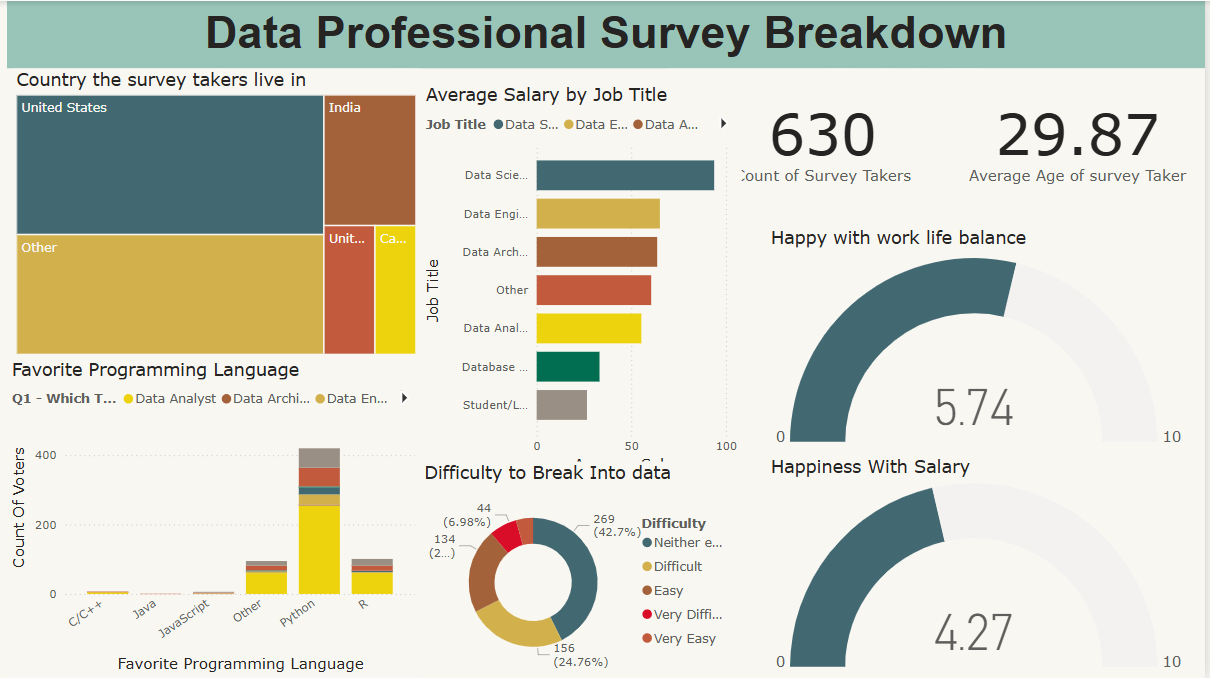

This screenshot's page, from the dashboard's own definition file:
{"tool":"powerbi","page":{"name":"Page 1","canvas":[1280,720],"ordinal":0},"visuals":[{"type":"textbox","box":[9.9,0,1270.8,71.5],"z":0},{"type":"card","fields":{"Values":["Count(Data Professional Survey.Unique ID)"]},"box":[708.8,71.5,329.6,150.9],"z":1000},{"type":"card","fields":{"Values":["Avg(Data Professional Survey.Q10 - Current Age)"]},"box":[1008.7,71.5,272,150.9],"z":2000},{"type":"barChart","title":"Average Salary by Job Title","fields":{"Category":["Data Professional Survey.Q1 - Which Title Best Fits your Current Role?.1"],"Y":["Avg(Data Professional Survey.Average Salary)"],"Series":["Data Professional Survey.Q1 - Which Title Best Fits your Current Role?.1"]},"box":[448.5,87.4,340,417.8],"z":3000},{"type":"columnChart","title":"Favorite Programming Language","fields":{"Category":["Data Professional Survey.Q5 - Favorite Programming Language.1"],"Y":["CountNonNull(Data Professional Survey.Unique ID)"],"Series":["Data Professional Survey.Q1 - Which Title Best Fits your Current Role?.1"]},"box":[10.1,378.7,437.5,338.2],"z":4000},{"type":"treemap","title":" Country the survey takers live in","fields":{"Group":["Data Professional Survey.Q11 - Which Country do you live in?.1"],"Values":["CountNonNull(Data Professional Survey.Q11 - Which Country do you live in?.1)"]},"box":[14.2,70.9,433.4,307.8],"z":5000},{"type":"gauge","title":"Happiness With Salary","fields":{"Y":["Avg(Data Professional Survey.Q6 - How Happy are you in your Current Position with the following? (Salary))"],"MinValue":["Min(Data Professional Survey.Q6 - How Happy are you in your Current Position with the following? (Salary))"],"MaxValue":["Max(Data Professional Survey.Q6 - How Happy are you in your Current Position with the following? (Salary))1"]},"box":[814.5,482.5,450.1,234.8],"z":6000},{"type":"gauge","title":"Happy with work life balance","fields":{"Y":["Avg(Data Professional Survey.Q6 - How Happy are you in your Current Position with the following? (Work/Life Balance))"],"MinValue":["Min(Data Professional Survey.Q6 - How Happy are you in your Current Position with the following? (Work/Life Balance))"],"MaxValue":["Max(Data Professional Survey.Q6 - How Happy are you in your Current Position with the following? (Work/Life Balance))"]},"box":[814.5,238,450.1,244.5],"z":7000},{"type":"donutChart","title":"Difficulty to Break Into data","fields":{"Category":["Data Professional Survey.Q7 - How difficult was it for you to break into Data?"],"Y":["CountNonNull(Data Professional Survey.Q7 - How difficult was it for you to break into Data?)"]},"box":[447.6,488.1,340.3,232.9],"z":8000}]}

Visuals, with their boxes in screenshot pixels (x1, y1, x2, y2), scaled from the page's 1280x720 canvas onto the 1210x678 screenshot:
textbox: {"left": 9, "top": 0, "right": 1209, "bottom": 67}
card - Count(Data Professional Survey.Unique ID): {"left": 670, "top": 67, "right": 982, "bottom": 209}
card - Avg(Data Professional Survey.Q10 - Current Age): {"left": 954, "top": 67, "right": 1209, "bottom": 209}
"Average Salary by Job Title" barChart: {"left": 424, "top": 82, "right": 745, "bottom": 476}
"Favorite Programming Language" columnChart: {"left": 10, "top": 357, "right": 423, "bottom": 675}
" Country the survey takers live in" treemap: {"left": 13, "top": 67, "right": 423, "bottom": 357}
"Happiness With Salary" gauge: {"left": 770, "top": 454, "right": 1195, "bottom": 675}
"Happy with work life balance" gauge: {"left": 770, "top": 224, "right": 1195, "bottom": 454}
"Difficulty to Break Into data" donutChart: {"left": 423, "top": 460, "right": 745, "bottom": 677}
